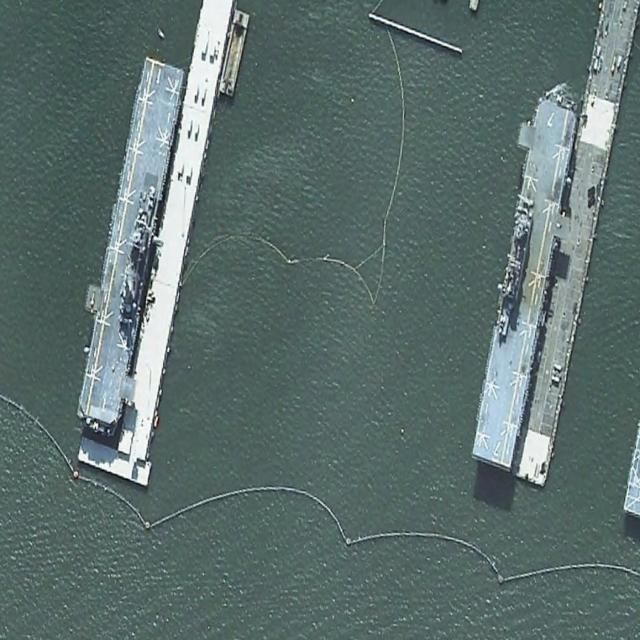Landing: (457, 91, 591, 477), (64, 50, 194, 445)
